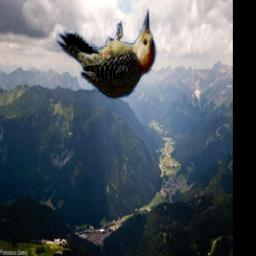Woodpecker: (53, 5, 165, 99)
